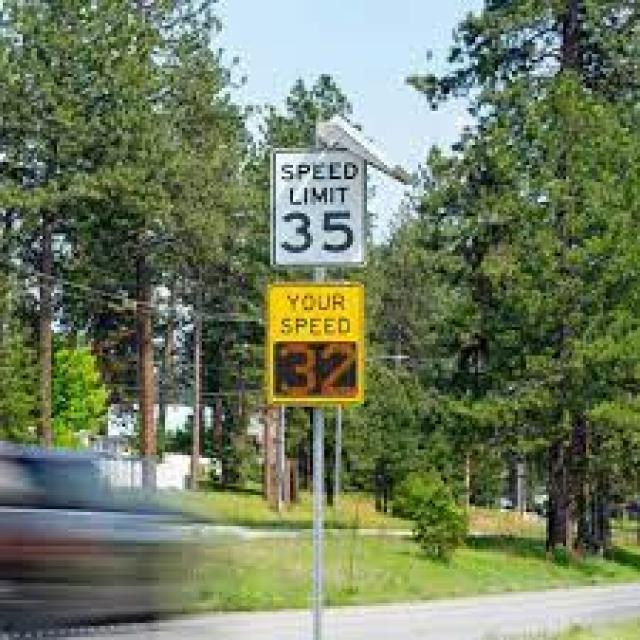Speed Limit Signs: (268, 142, 370, 271)
